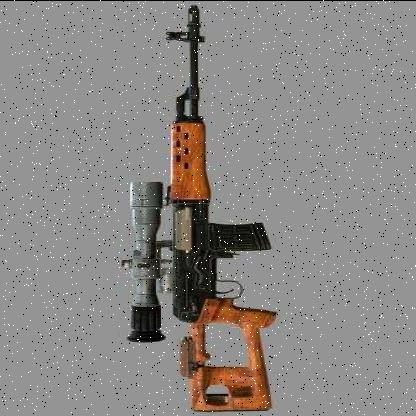rifle: (123, 1, 303, 416)
